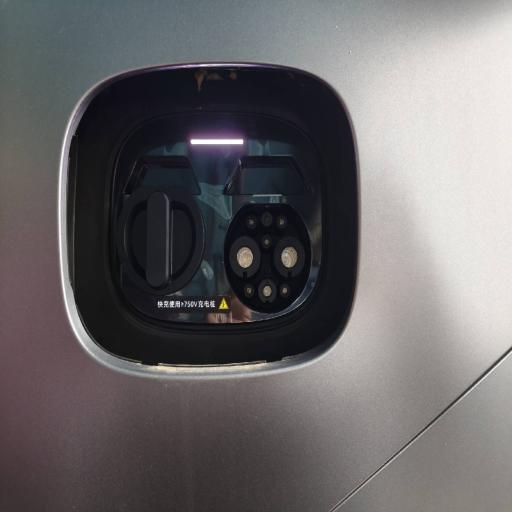DC_charging_port: (222, 201, 314, 316)
DC_hole: (228, 234, 262, 280), (273, 235, 306, 279)
PE: (258, 278, 278, 306)
